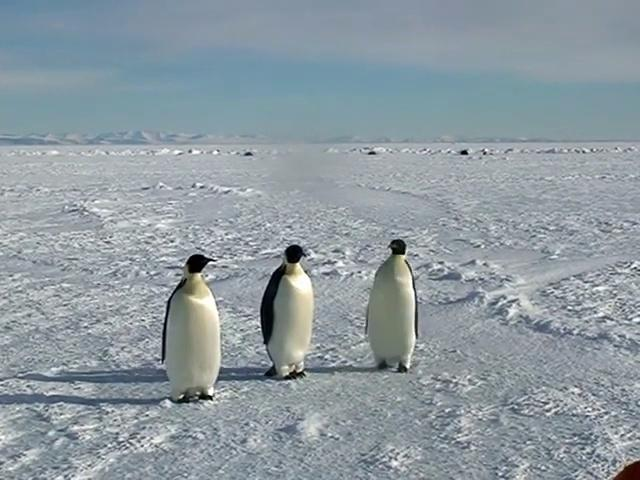animal: (366, 240, 420, 374)
